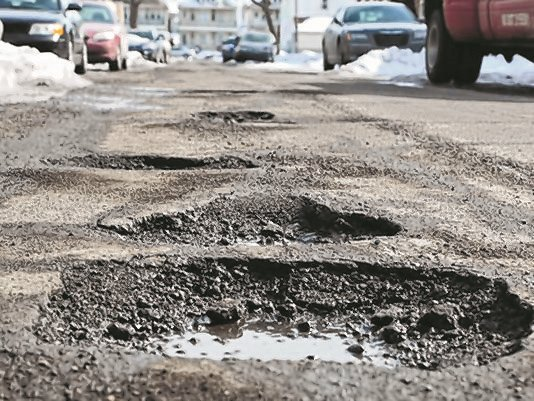pothole: (51, 253, 529, 381), (104, 186, 399, 265), (69, 126, 254, 184), (188, 101, 279, 130), (182, 76, 264, 96)
